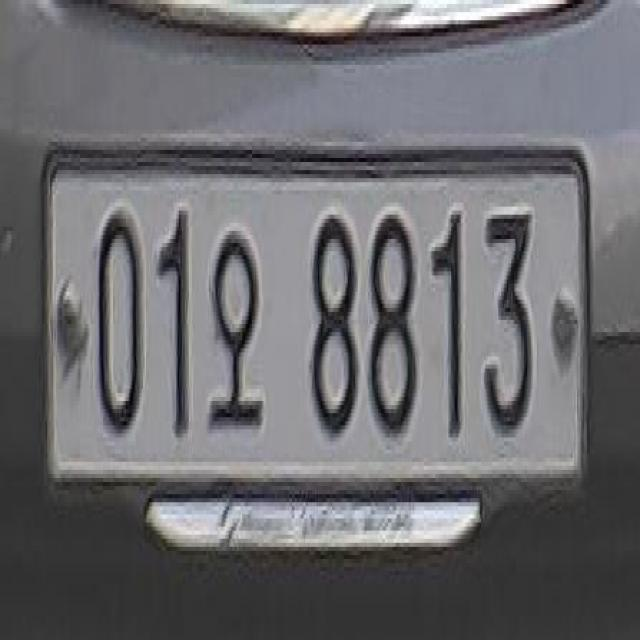illegal_plate: (38, 132, 601, 540)
